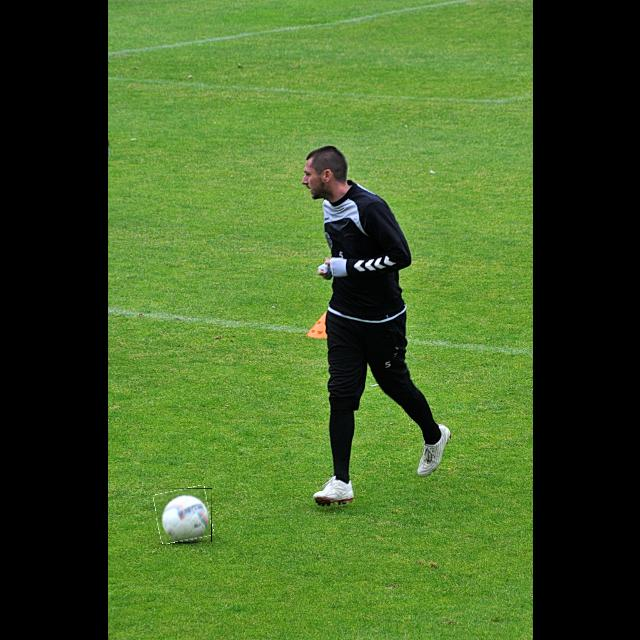Football: (156, 488, 212, 542)
